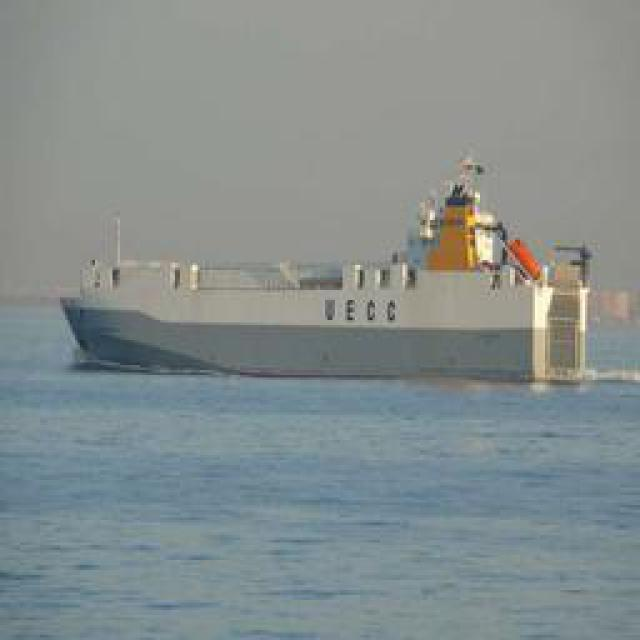Ship: (60, 196, 613, 381)
